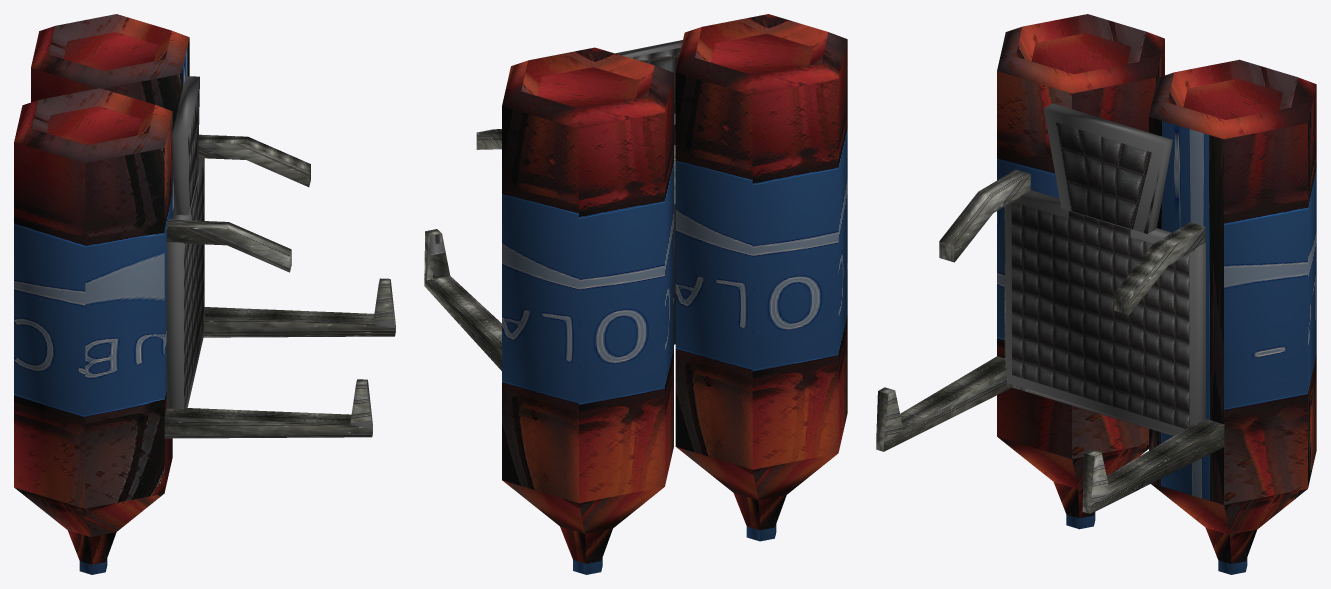
File: salt.fbx
3 views of the same model, side by side, from view 1: azimuth 30°, elevation 25°; view 2: azimuth 150°, elevation 25°; view 3: azimuth 270°, elevation 25° (orthographic). The views are drawn at different scales.
Visible parts, largest first — view 1: Cylinder_001; view 2: Cylinder_001; view 3: Cylinder_001.
Part boxes in pixels (x1,y1,x2,y2): Cylinder_001: (14, 14, 395, 574); Cylinder_001: (424, 14, 847, 574); Cylinder_001: (876, 14, 1316, 574).
Size of the model in its own units: 1.45 by 1.64 by 1.37.
Materials: 2 (2 with a texture image).
